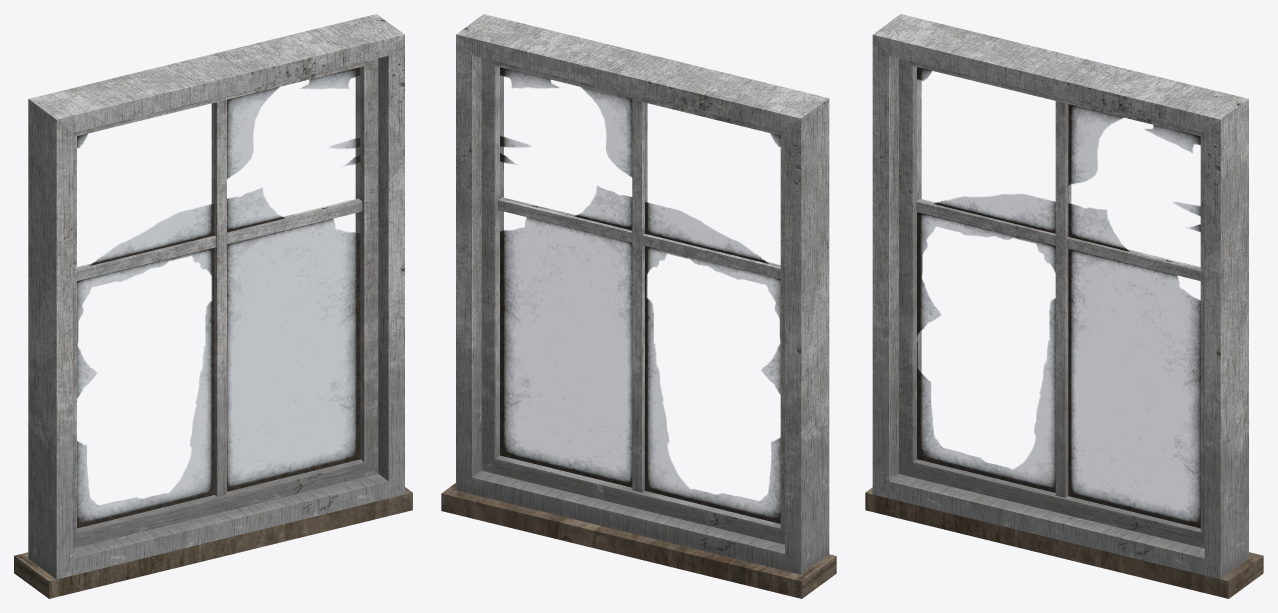
3 renders of one model, left to right at view 1: azimuth 30°, elevation 25°; view 2: azimuth 150°, elevation 25°; view 3: azimuth 330°, elevation 25°, orthographic.
Visible parts, largest first — view 1: Window_001, Glass_001, Frame_001; view 2: Window_001, Glass_001, Frame_001; view 3: Window_001, Glass_001, Frame_001.
Part boxes in pixels (box(x1,y1,x2,y2)): Window_001: box(28, 14, 404, 579); Glass_001: box(77, 67, 360, 528); Frame_001: box(14, 487, 412, 598); Window_001: box(456, 14, 829, 574); Glass_001: box(500, 67, 780, 523); Frame_001: box(441, 483, 836, 598); Window_001: box(872, 14, 1248, 579); Glass_001: box(917, 67, 1200, 528); Frame_001: box(865, 487, 1263, 598).
Bounding box in the file's own units: 1.59 × 2 × 0.2661.
2 materials, 2 textured.
